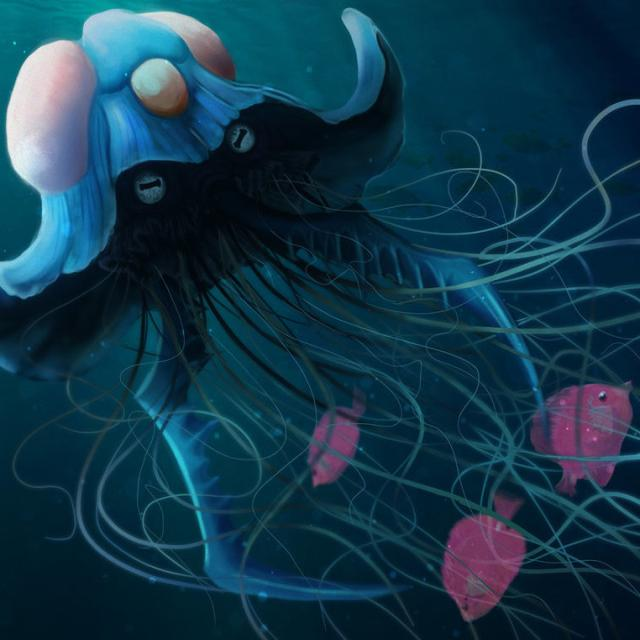Tentacruel: (0, 0, 464, 431)
